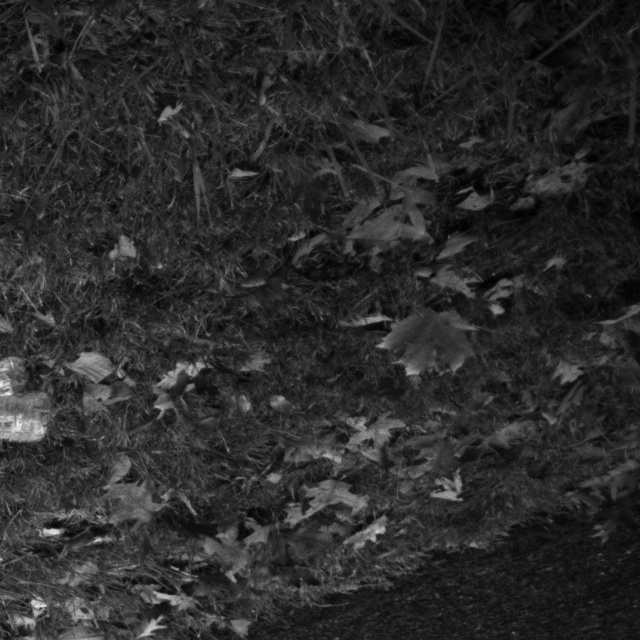bottle: (0, 388, 52, 442)
